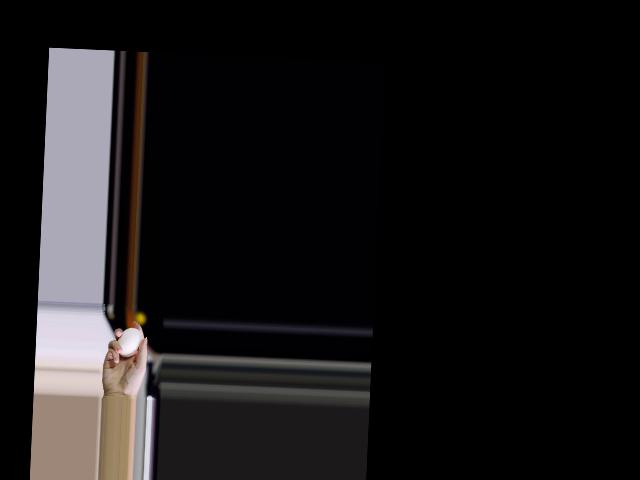egg: (117, 326, 142, 357)
